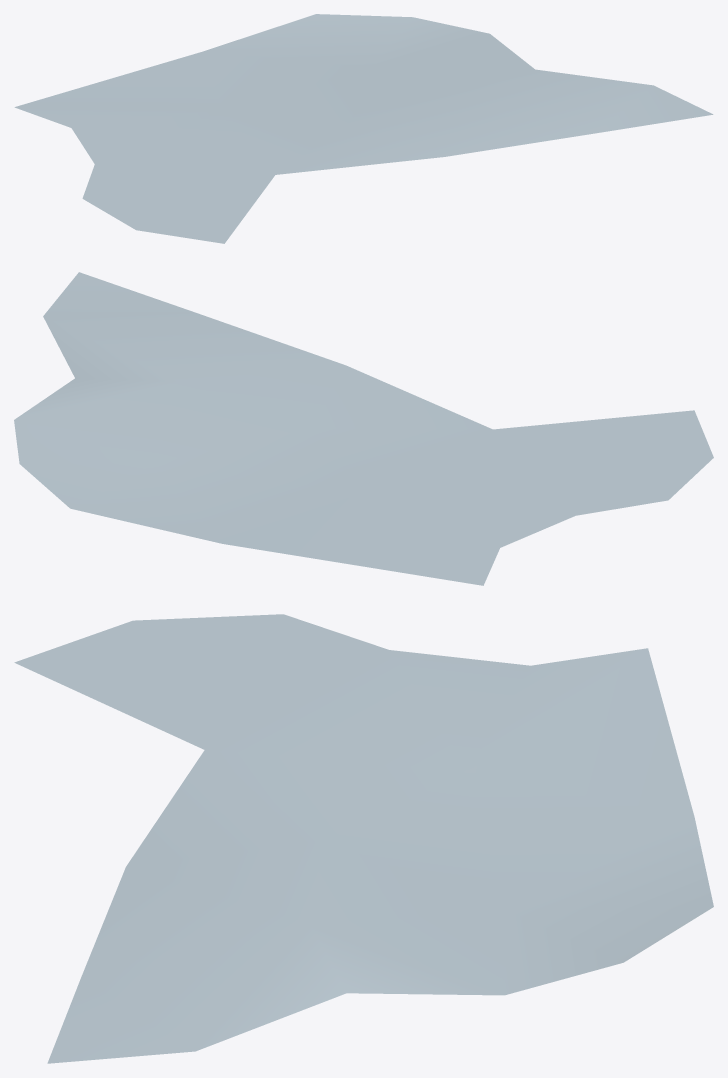
File: nieve3.fbx
3 views of the same model, one above another, from view 1: azimuth 30°, elevation 25°; view 2: azimuth 150°, elevation 25°; view 3: azimuth 270°, elevation 25° (orthographic). The views are drawn at different scales.
Visible parts, largest first — view 1: Cylinder007; view 2: Cylinder007; view 3: Cylinder007.
Boxes of the visible parts, x1,y1,x2,y2 form: Cylinder007: [14, 14, 713, 243]; Cylinder007: [14, 272, 713, 585]; Cylinder007: [14, 614, 713, 1063].
Bounding box in the file's own units: 64.86 × 1.45 × 42.67.
